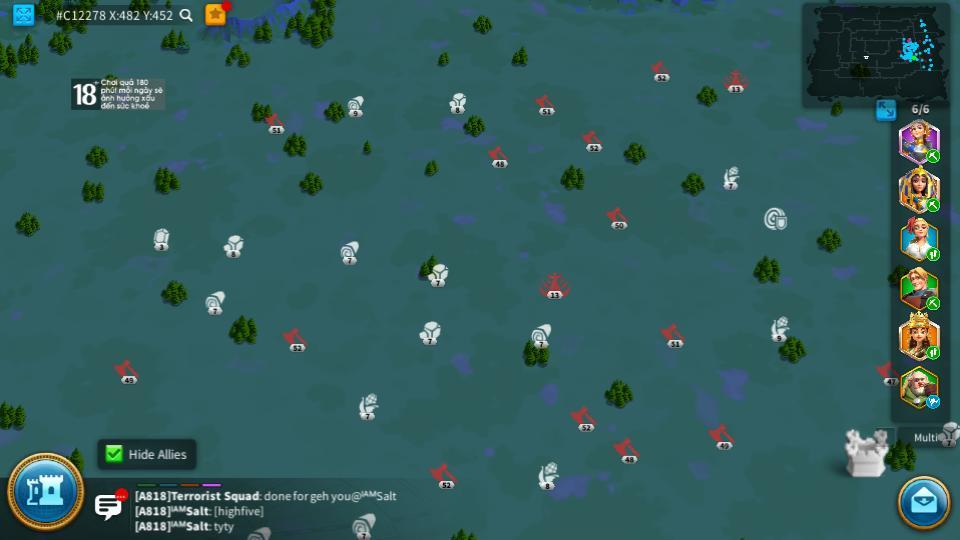gem-z-out: (152, 227, 170, 249)
march_idle: (925, 396, 942, 408)
march_marching: (925, 196, 941, 211), (923, 248, 940, 260), (925, 347, 941, 359), (925, 150, 941, 162), (925, 297, 942, 308)
